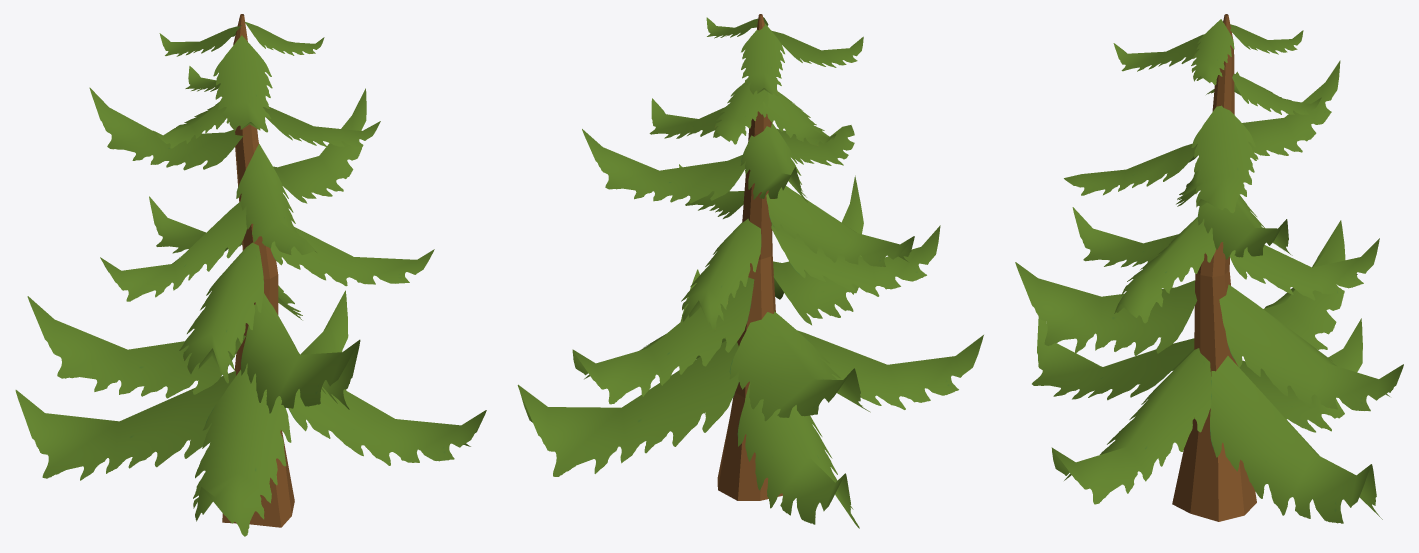
Rendered from Tree2_High.fbx.
3 views of the same model, side by side, from view 1: azimuth 30°, elevation 25°; view 2: azimuth 150°, elevation 25°; view 3: azimuth 270°, elevation 25° (orthographic). The views are drawn at different scales.
Visible parts, largest first — view 1: Cylinder.018; view 2: Cylinder.018; view 3: Cylinder.018.
Boxes of the visible parts, box(x1,y1,x2,y2) form: Cylinder.018: box(15, 14, 486, 536); Cylinder.018: box(517, 14, 983, 528); Cylinder.018: box(1015, 14, 1403, 523).
Bounding box in the file's own units: 325 × 456 × 333.
1 material, 1 textured.
